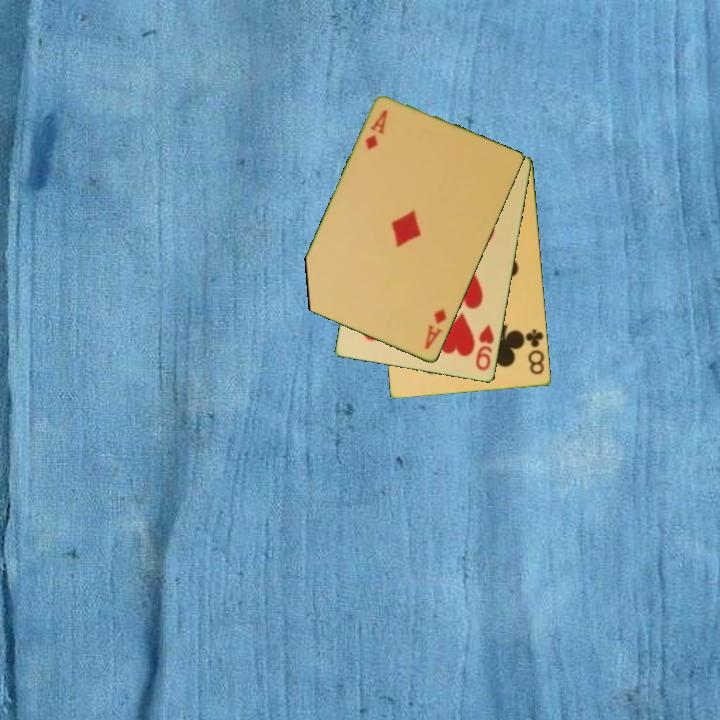8c: (521, 326, 548, 378)
9h: (472, 321, 497, 374)
Ad: (421, 305, 450, 353), (362, 106, 390, 153)
